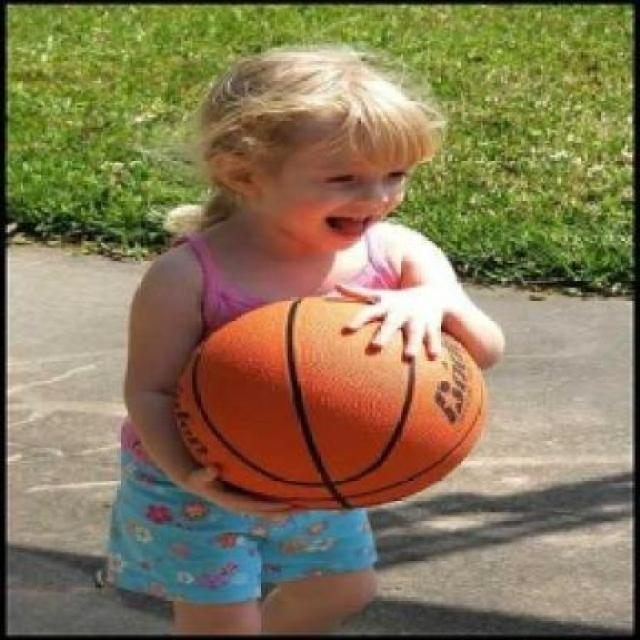basketball: (168, 290, 492, 516)
